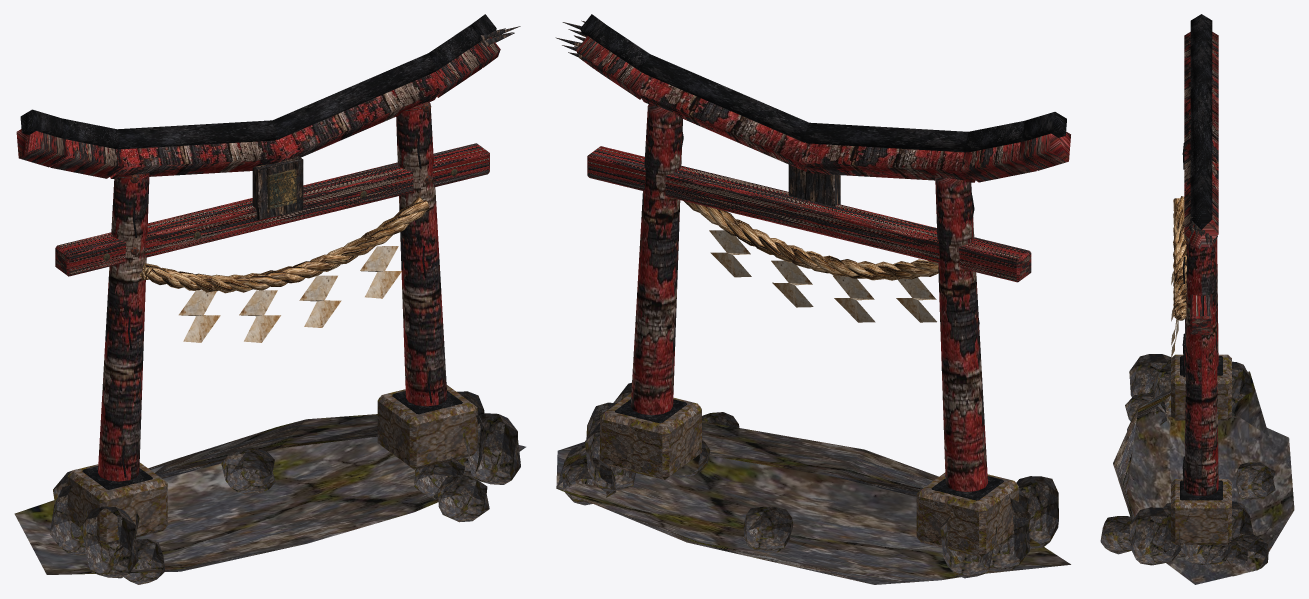
File: nyanisyarud-oni-torii.glb
3 views of the same model, side by side, from view 1: azimuth 30°, elevation 25°; view 2: azimuth 150°, elevation 25°; view 3: azimuth 270°, elevation 25° (orthographic). The views are drawn at different scales.
Parts seen in each view (by area): view 1: 04 Broken Torii; view 2: 04 Broken Torii; view 3: 04 Broken Torii.
Boxes of the visible parts, bbox=[...] form: 04 Broken Torii: bbox=[14, 14, 525, 584]; 04 Broken Torii: bbox=[555, 14, 1070, 584]; 04 Broken Torii: bbox=[1100, 14, 1294, 584].
Size of the model in its own units: 6.67 by 5.97 by 2.7.
Materials: 9 (9 with a texture image).
